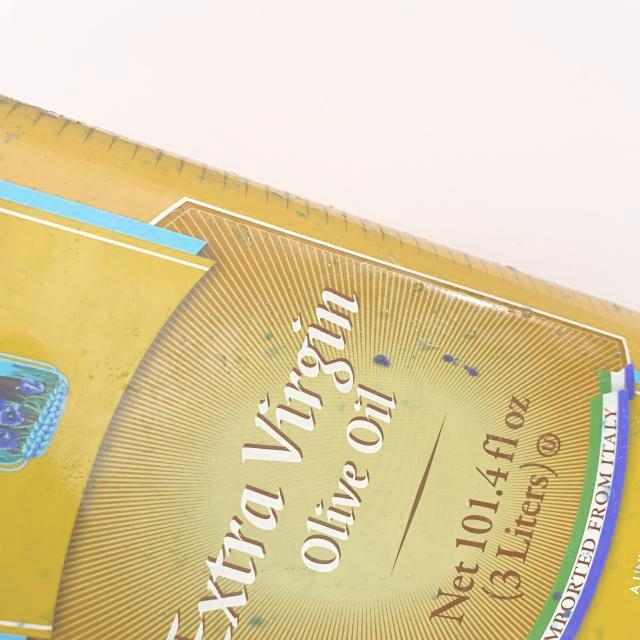metal: (3, 73, 640, 640)
